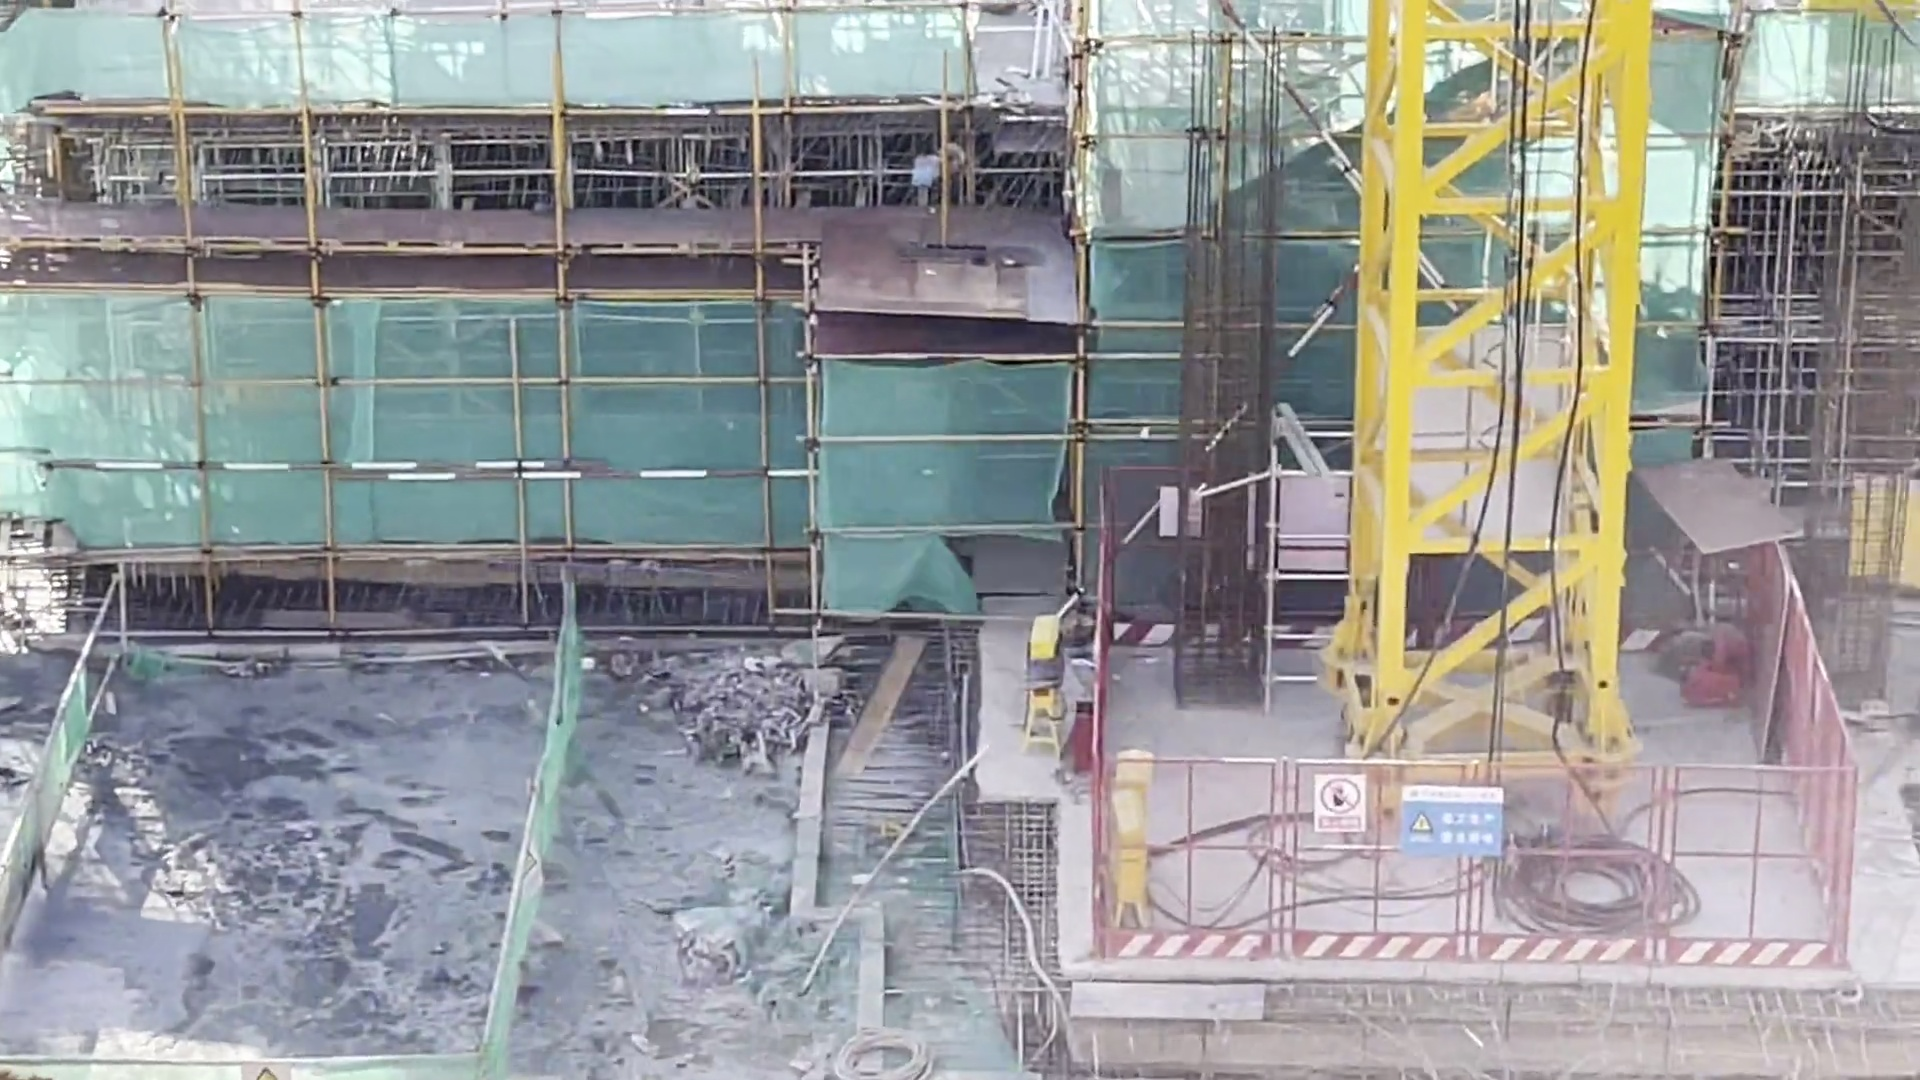ebox: (1019, 612, 1067, 761), (1108, 789, 1150, 931), (1116, 745, 1156, 785)
fence: (1166, 738, 1847, 978), (1771, 585, 1862, 968)
slogan: (1396, 785, 1509, 858), (1317, 774, 1367, 829)
